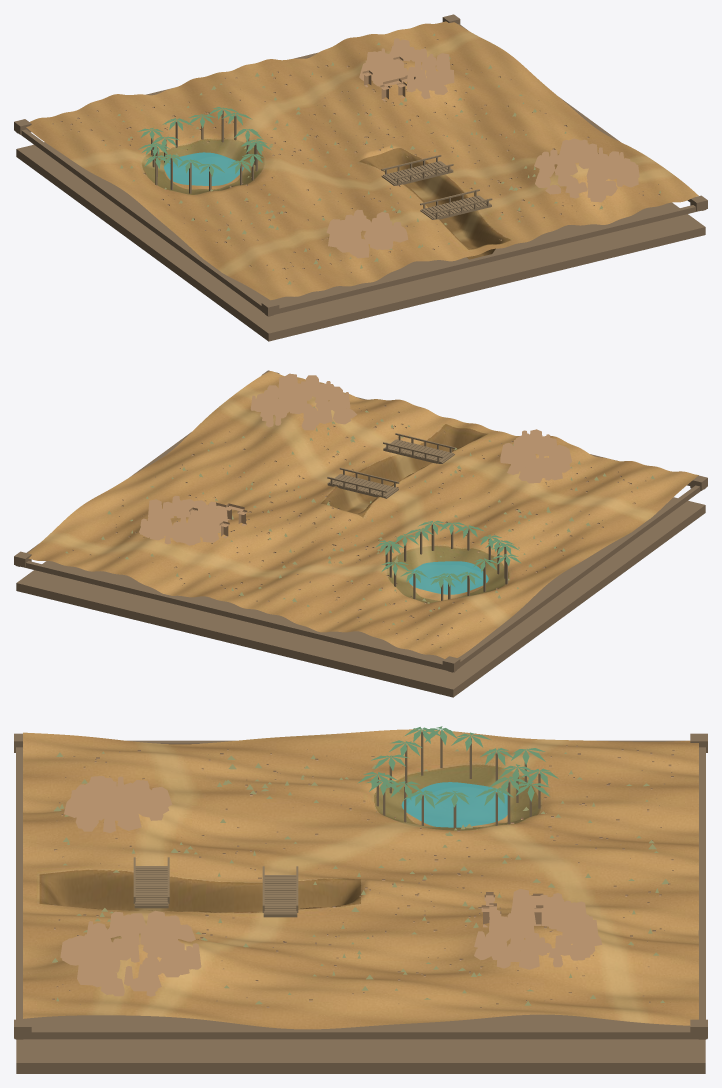
Rendered from golden_expanse_board.glb.
3 renders of one model, top to bottom at view 1: azimuth 30°, elevation 25°; view 2: azimuth 150°, elevation 25°; view 3: azimuth 270°, elevation 25°, orthographic. The views are drawn at different scales.
Parts seen in each view (by area): view 1: Sculpted dune terrain, Board frame, Sandstone ruins, Bridge decks and trunks, Palm fronds, Oasis water, Dry desert scrub; view 2: Sculpted dune terrain, Board frame, Sandstone ruins, Bridge decks and trunks, Palm fronds, Oasis water, Dry desert scrub; view 3: Sculpted dune terrain, Board frame, Sandstone ruins, Bridge decks and trunks, Palm fronds, Oasis water, Dry desert scrub.
Boxes of the visible parts, box(x1,y1,x2,y2) form: Sculpted dune terrain: box(26, 21, 698, 300); Board frame: box(14, 14, 707, 341); Sandstone ruins: box(52, 38, 659, 281); Bridge decks and trunks: box(151, 110, 492, 219); Palm fronds: box(137, 107, 270, 176); Oasis water: box(163, 152, 243, 185); Dry desert scrub: box(105, 33, 660, 284); Sculpted dune terrain: box(28, 371, 698, 658); Board frame: box(14, 370, 707, 697); Sandstone ruins: box(72, 373, 646, 647); Bridge decks and trunks: box(327, 433, 507, 600); Palm fronds: box(375, 520, 521, 588); Oasis water: box(409, 561, 488, 594); Dry desert scrub: box(65, 406, 654, 625); Sculpted dune terrain: box(23, 729, 698, 1029); Board frame: box(14, 733, 707, 1073); Sandstone ruins: box(48, 745, 674, 1008); Bridge decks and trunks: box(133, 731, 540, 917); Palm fronds: box(357, 726, 558, 808); Oasis water: box(401, 782, 507, 827); Dry desert scrub: box(52, 747, 668, 1005).
Size of the model in its own units: 43.1 by 6.87 by 43.1.
7 materials, 1 textured.
